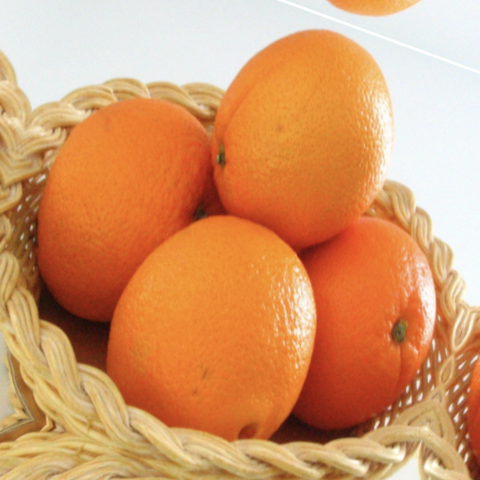orange: (67, 163, 372, 480), (0, 58, 251, 344), (177, 0, 431, 254), (250, 184, 480, 429)
